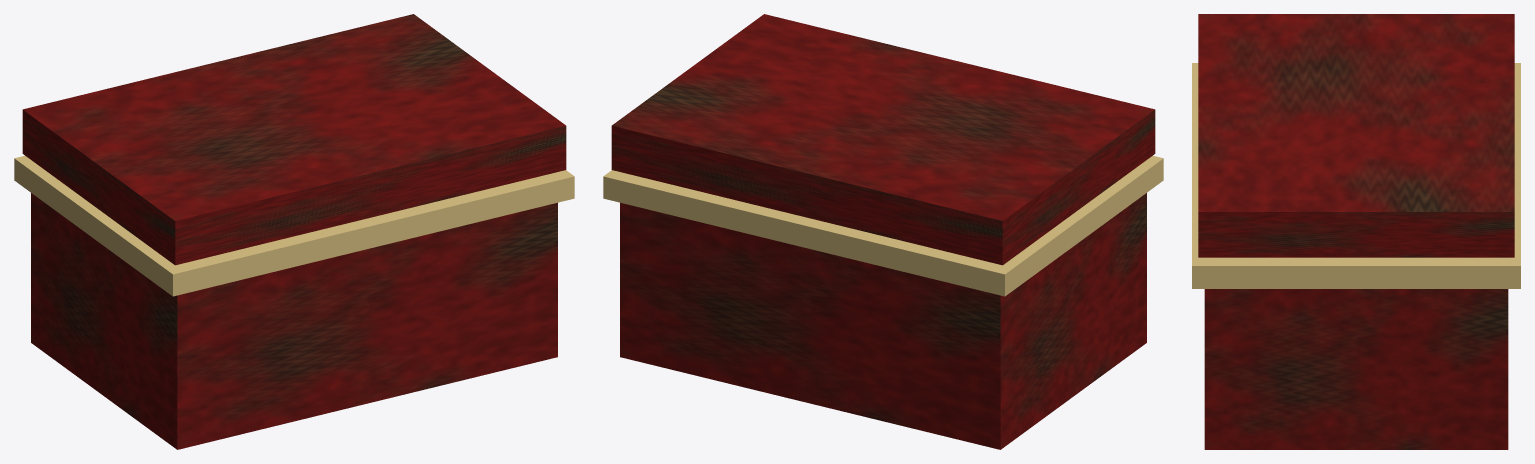
Rendered from jewelry_box.glb.
3 renders of one model, left to right at view 1: azimuth 30°, elevation 25°; view 2: azimuth 150°, elevation 25°; view 3: azimuth 270°, elevation 25°, orthographic. The views are drawn at different scales.
Parts seen in each view (by area): view 1: Lid, Body, Trim; view 2: Lid, Body, Trim; view 3: Lid, Body, Trim.
Part boxes in pixels (x1=…): Lid: x1=22, y1=14, x2=566, y2=265; Body: x1=31, y1=193, x2=557, y2=449; Trim: x1=14, y1=155, x2=574, y2=296; Lid: x1=611, y1=14, x2=1155, y2=265; Body: x1=620, y1=193, x2=1146, y2=449; Trim: x1=603, y1=155, x2=1163, y2=296; Lid: x1=1198, y1=14, x2=1514, y2=257; Body: x1=1204, y1=289, x2=1508, y2=449; Trim: x1=1192, y1=63, x2=1520, y2=288.
Size of the model in its own units: 0.38 by 0.21 by 0.26.
2 materials, 1 textured.
